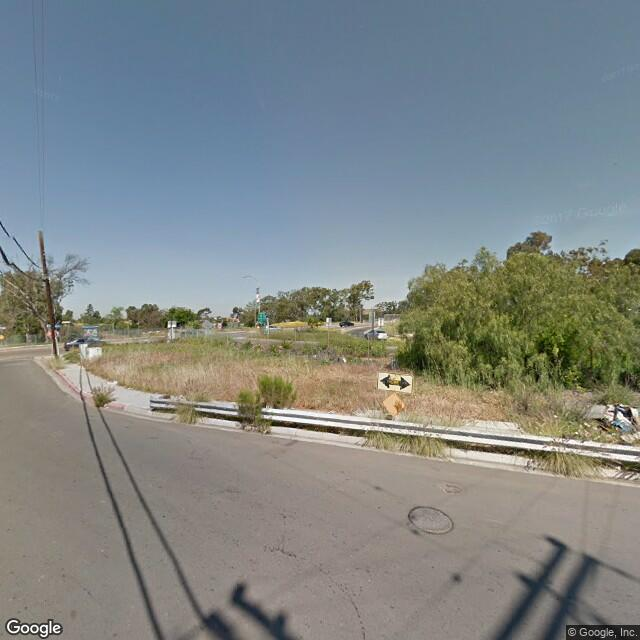litter: (598, 403, 640, 434), (103, 378, 125, 392)
